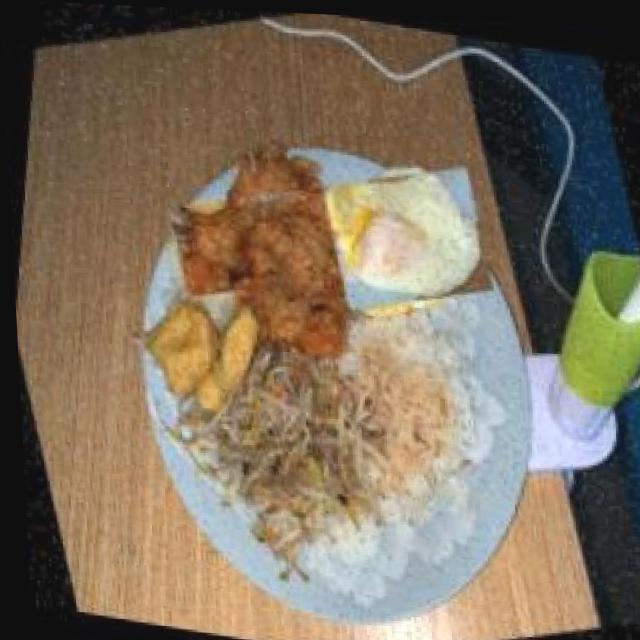chicken_nuggets: (119, 267, 288, 432)
fried_chicken: (165, 129, 404, 367)
fried_eggs: (305, 135, 503, 332)
mung_bean_sprouts: (166, 335, 391, 578)
rice: (301, 290, 495, 520)
